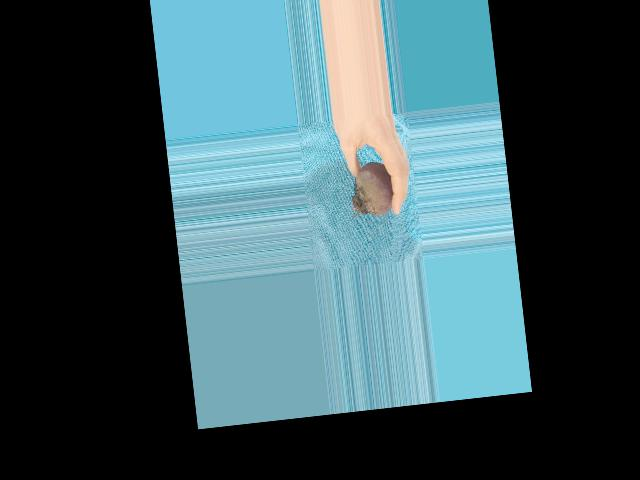beet: (346, 160, 394, 218)
